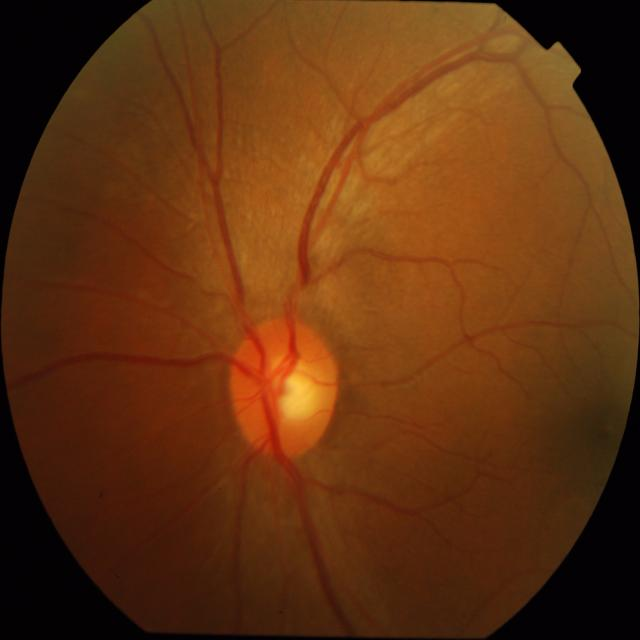OC: (263, 352, 324, 424)
OD: (228, 316, 339, 457)
